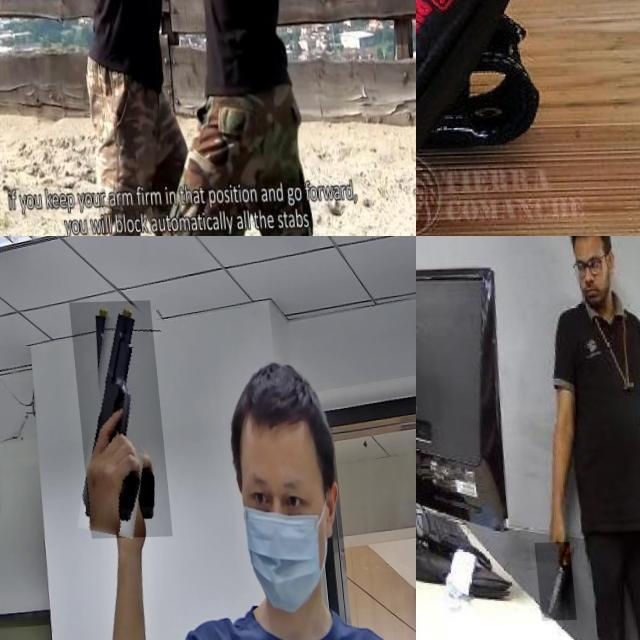-: (416, 149, 564, 236), (524, 544, 564, 622), (84, 0, 164, 36)
gun-knife-thesis - v11 Yolov5 augmented: (65, 302, 164, 540)
